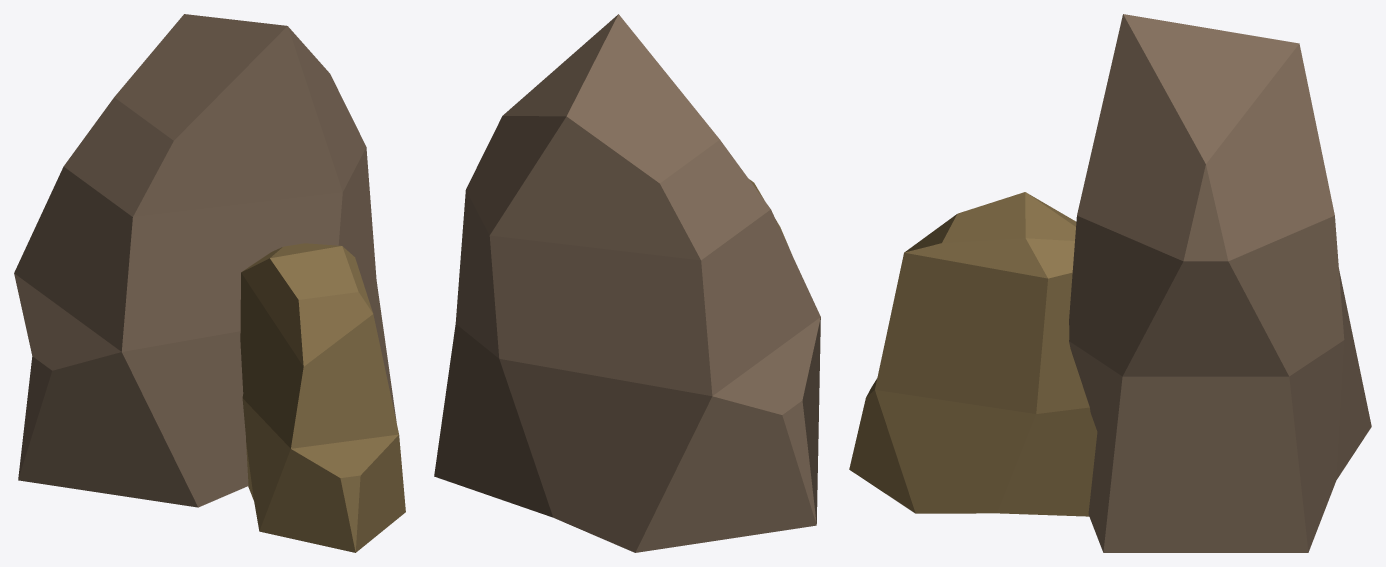
File: rocks1.fbx
3 renders of one model, left to right at view 1: azimuth 30°, elevation 25°; view 2: azimuth 150°, elevation 25°; view 3: azimuth 270°, elevation 25°, orthographic. The views are drawn at different scales.
Parts seen in each view (by area): view 1: rock1, rock2; view 2: rock1; view 3: rock1, rock2.
Boxes of the visible parts, box(x1,y1,x2,y2) form: rock1: box(14, 14, 396, 507); rock2: box(240, 243, 405, 552); rock1: box(434, 14, 820, 552); rock1: box(1069, 14, 1371, 552); rock2: box(849, 192, 1097, 516).
Size of the model in its own units: 269 by 324 by 317.
